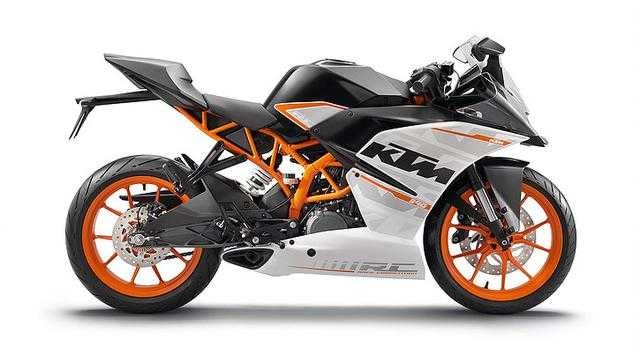motorbike: (65, 35, 577, 316)
